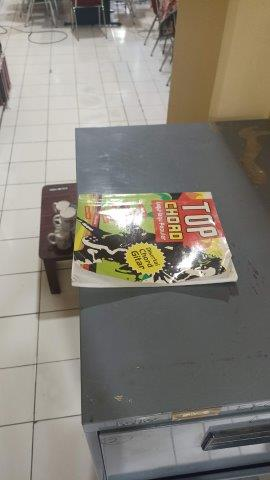kertas: (75, 191, 238, 288)
